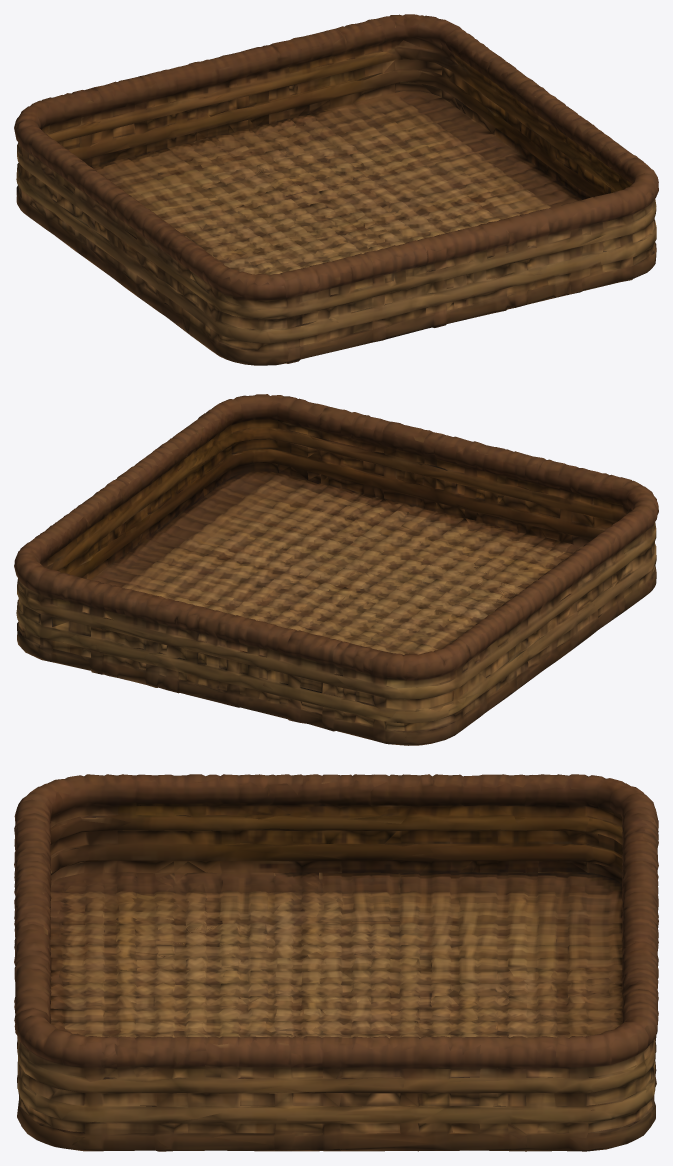
File: basket_farm.fbx
3 renders of one model, top to bottom at view 1: azimuth 30°, elevation 25°; view 2: azimuth 150°, elevation 25°; view 3: azimuth 270°, elevation 25°, orthographic. The views are drawn at different scales.
Parts seen in each view (by area): view 1: basket_farm; view 2: basket_farm; view 3: basket_farm.
Part boxes in pixels (x1,y1,x2,y2): basket_farm: [14, 14, 658, 365]; basket_farm: [14, 394, 658, 745]; basket_farm: [14, 774, 658, 1151].
Bounding box in the file's own units: 100 × 18.83 × 98.88.
Materials: 1 (1 with a texture image).
